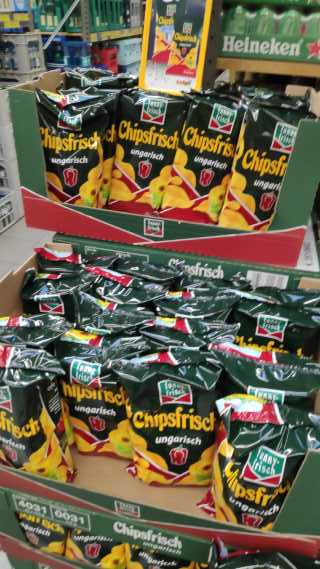chipsfrisch: (193, 393, 320, 532), (115, 358, 218, 492), (220, 95, 305, 237), (163, 94, 238, 229), (37, 89, 113, 213), (107, 88, 175, 219), (55, 355, 131, 460), (280, 283, 320, 339)
